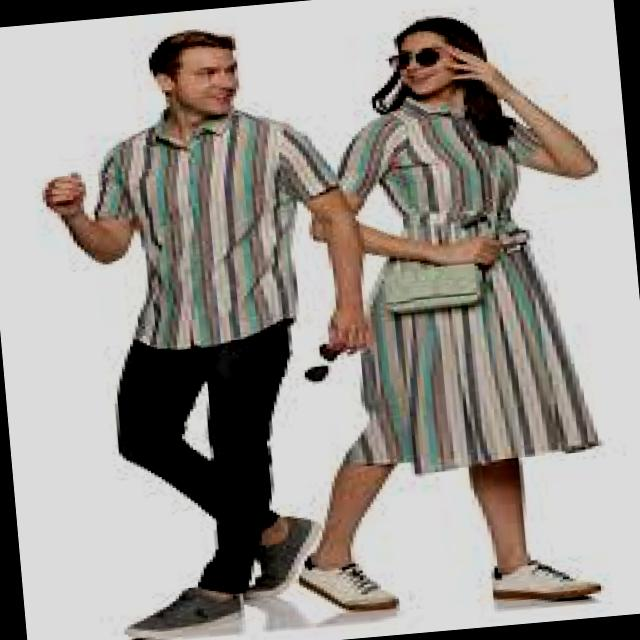dress: (340, 98, 597, 474)
face: (156, 47, 238, 118), (398, 31, 456, 99)
foot-wear: (244, 508, 326, 604), (122, 580, 245, 640), (488, 550, 600, 613), (300, 546, 392, 622)
lower-wear: (116, 319, 289, 594)
top-wear: (88, 100, 342, 354)
